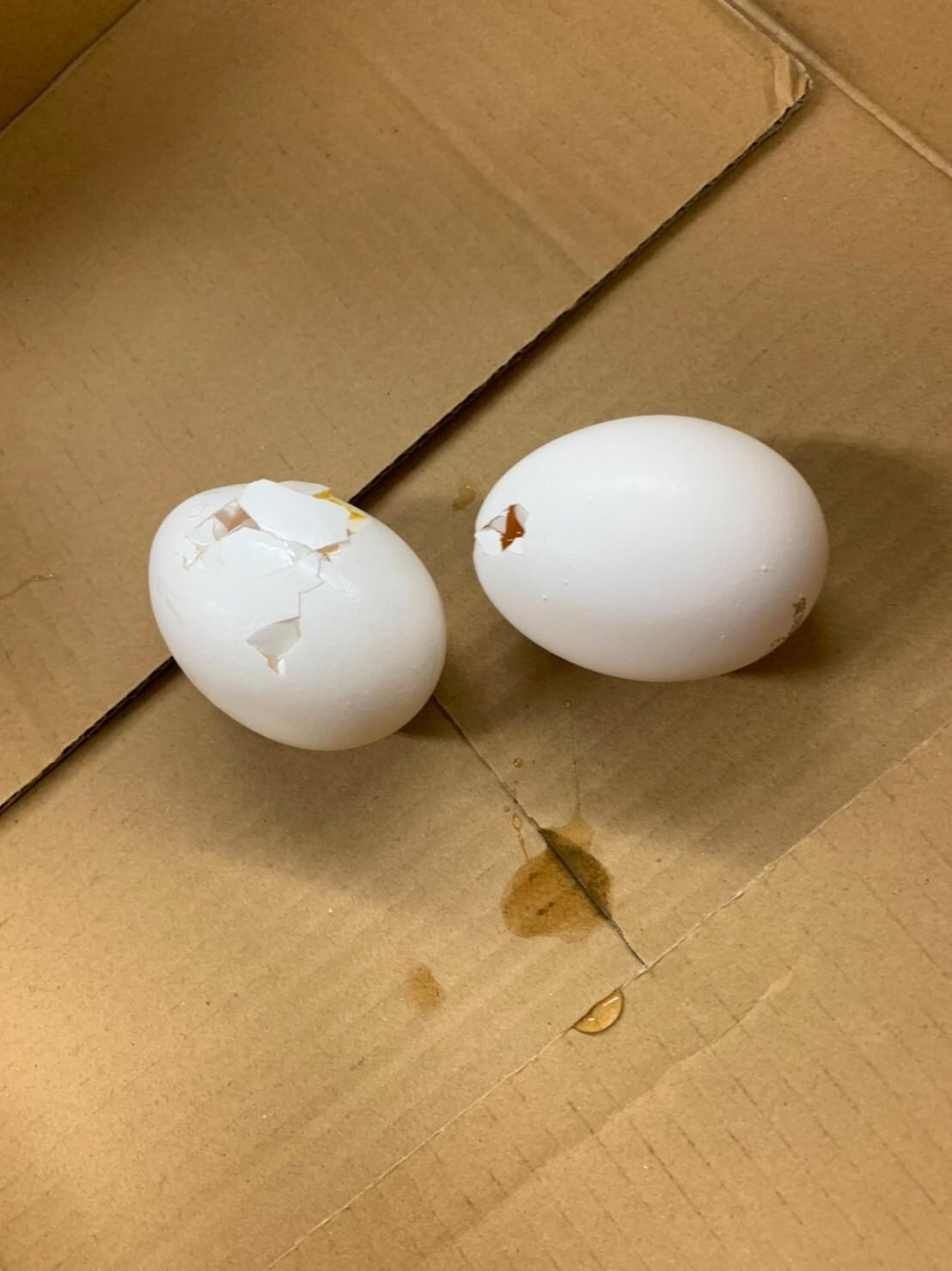egg: (469, 408, 833, 687), (144, 471, 442, 746)
